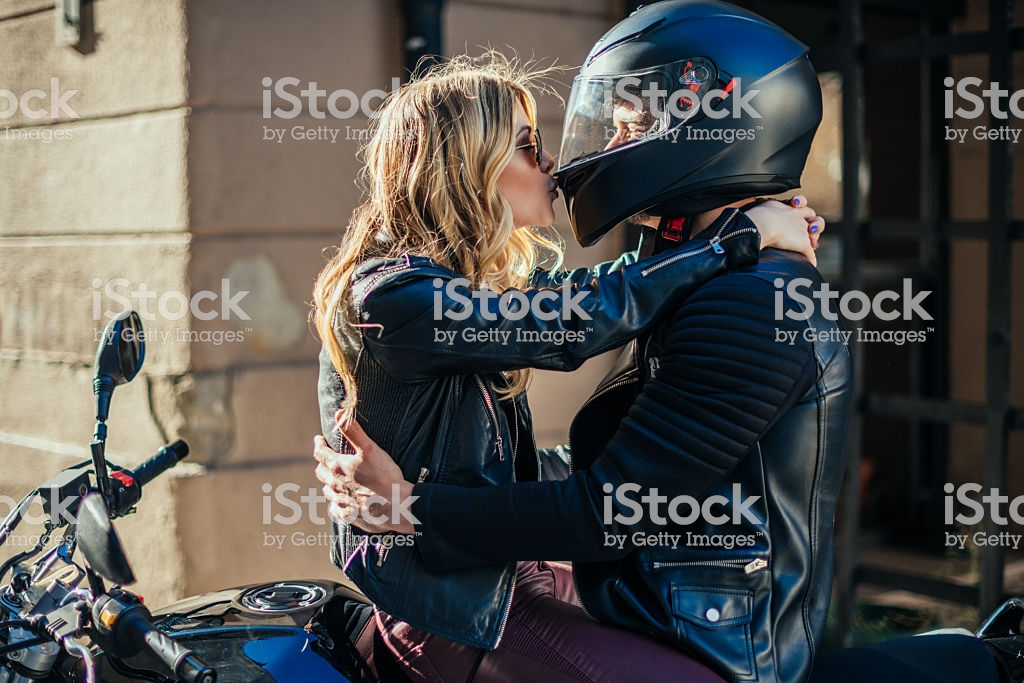helmet: (565, 5, 844, 229)
